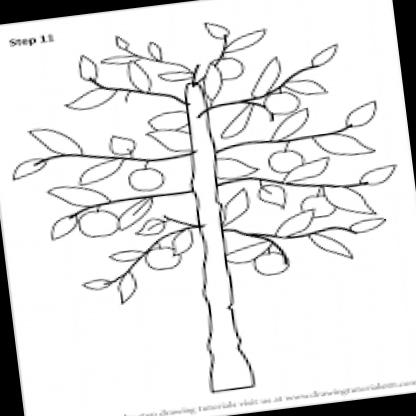branch_line: (5, 0, 390, 307)
trunk_straight: (192, 290, 260, 374)
